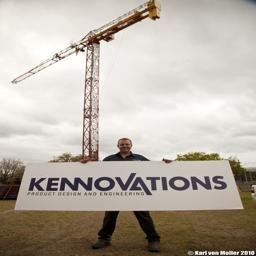no hat: (111, 136, 142, 160)
no vest: (102, 153, 156, 174)
